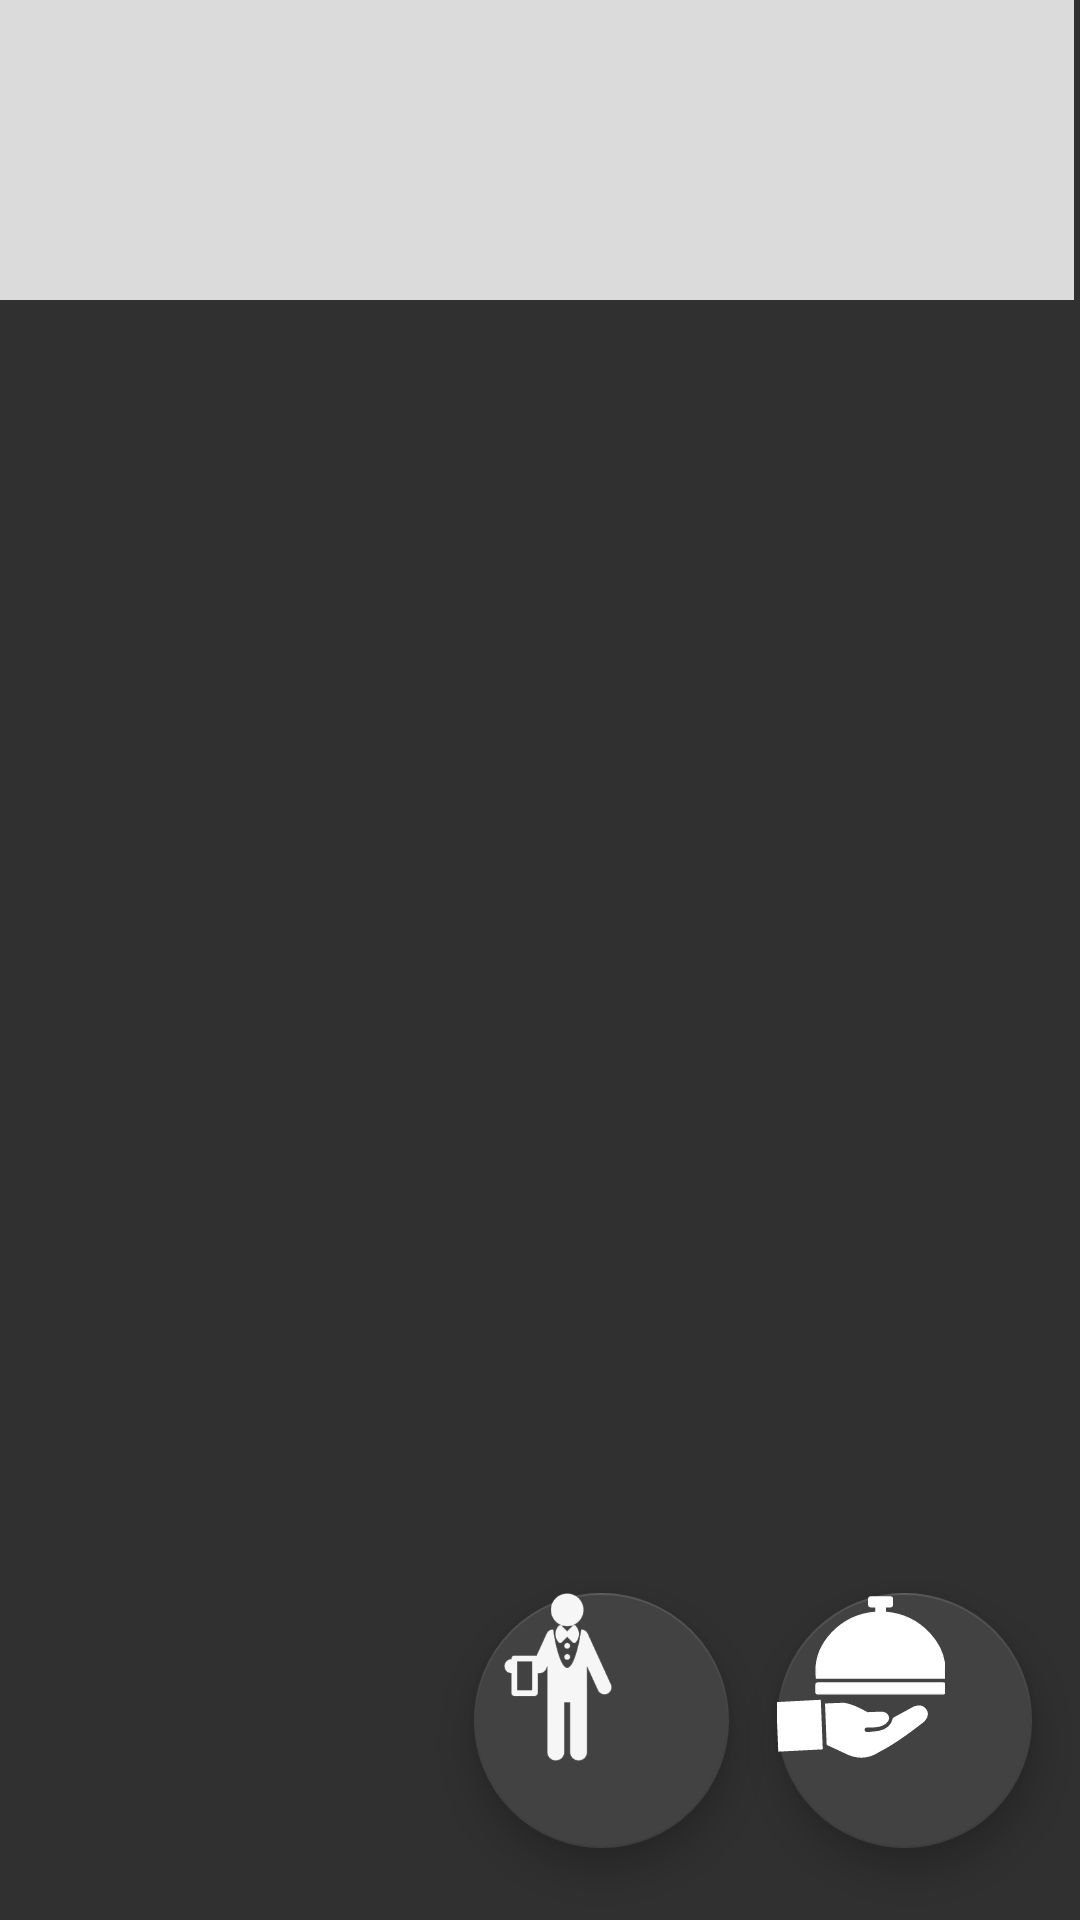

Icon bounding boxes for this 1080w x 1920h phone screenshot, format (x1, y1, x2, y2):
Call waiter: (474, 1593, 729, 1848)
Place order: (777, 1593, 1032, 1848)
